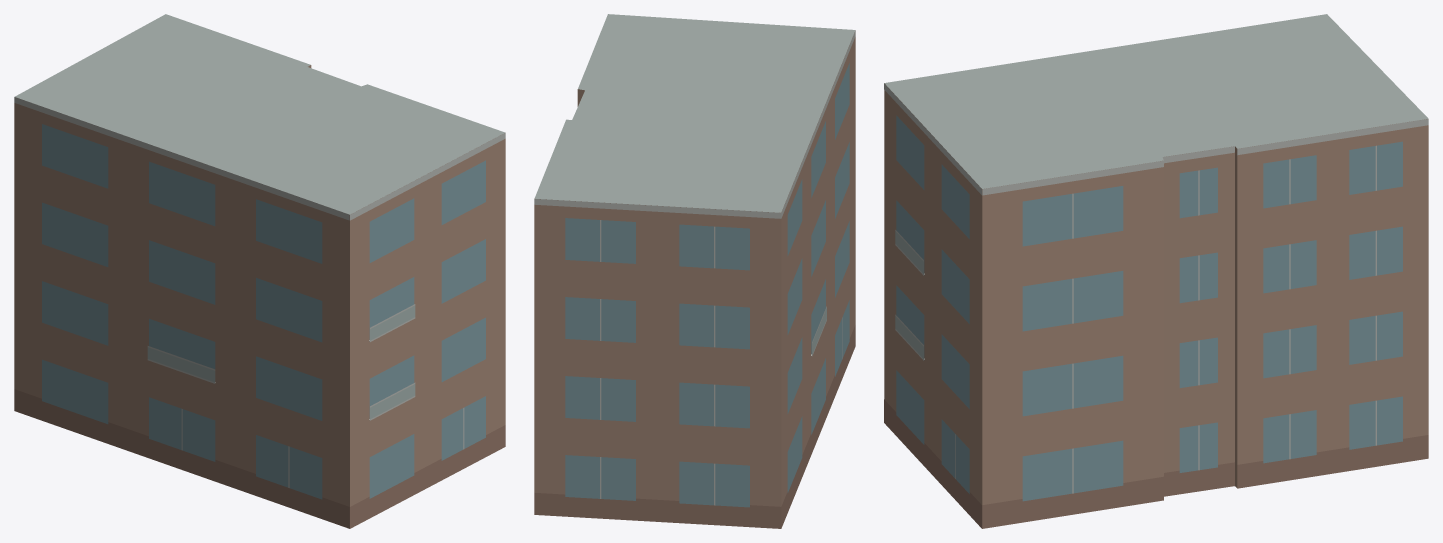
Rendered from survey-upis-33003717.glb.
3 views of the same model, side by side, from view 1: azimuth 30°, elevation 25°; view 2: azimuth 150°, elevation 25°; view 3: azimuth 270°, elevation 25° (orthographic). The views are drawn at different scales.
Parts seen in each view (by area): view 1: survey-upis-33003717.tmp; view 2: survey-upis-33003717.tmp; view 3: survey-upis-33003717.tmp.
Part boxes in pixels (<box>): survey-upis-33003717.tmp: <box>14,14,505,528</box>; survey-upis-33003717.tmp: <box>534,14,855,528</box>; survey-upis-33003717.tmp: <box>884,14,1428,528</box>.
Size of the model in its own units: 14.15 by 12.8 by 18.6.
